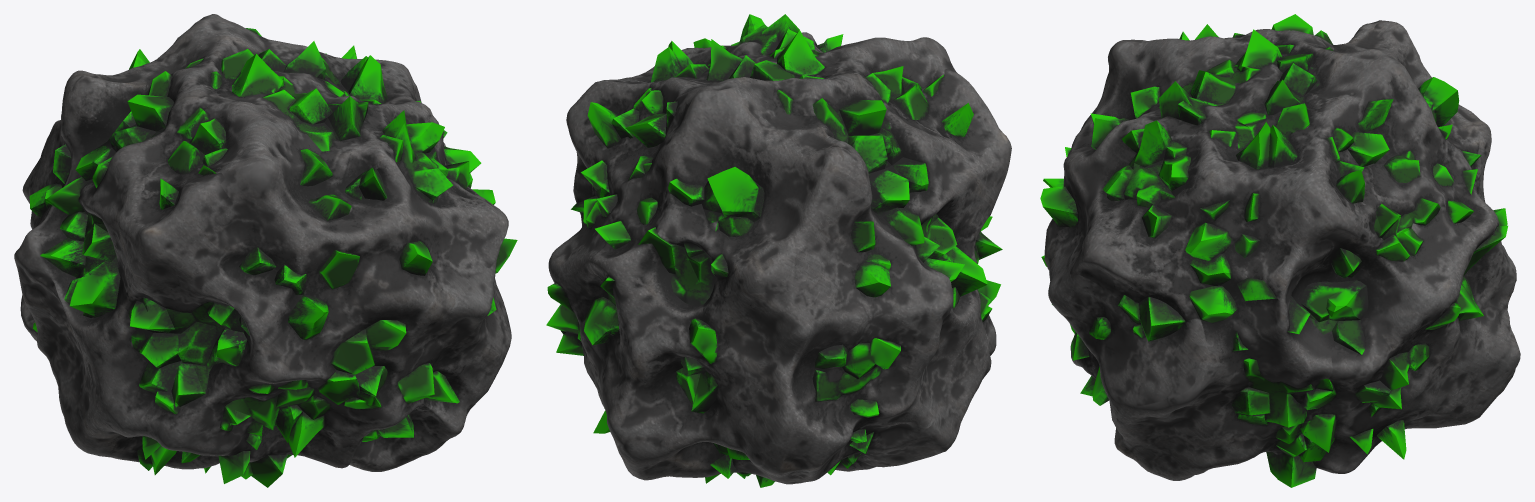
File: asteroide_03.obj
3 views of the same model, side by side, from view 1: azimuth 30°, elevation 25°; view 2: azimuth 150°, elevation 25°; view 3: azimuth 270°, elevation 25° (orthographic). The views are drawn at different scales.
Visible parts, largest first — view 1: asteroide_04; view 2: asteroide_04; view 3: asteroide_04.
Part boxes in pixels (left/top/right/bottom): asteroide_04: left=14, top=14, right=517, bottom=487; asteroide_04: left=546, top=14, right=1011, bottom=487; asteroide_04: left=1040, top=14, right=1520, bottom=487.
Size of the model in its own units: 0.8759 by 0.8498 by 0.8906.
1 material, 1 textured.
